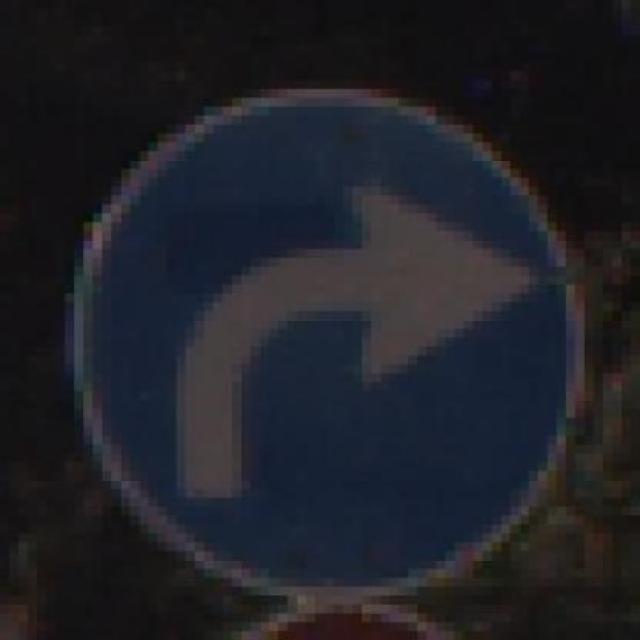Turn right ahead: (46, 71, 594, 587)
